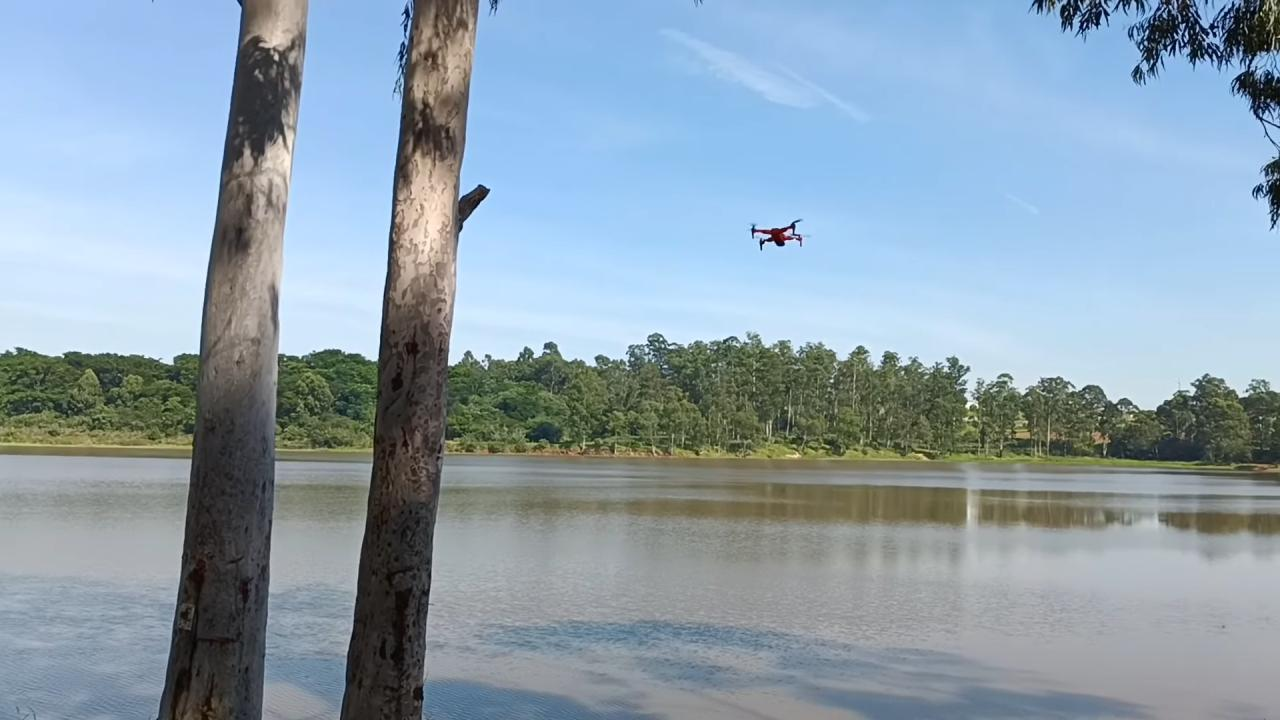Drone: (736, 208, 820, 264)
